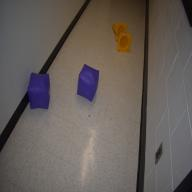cone: (117, 31, 132, 53), (111, 22, 127, 42)
cube: (76, 63, 100, 102), (27, 72, 51, 110)
